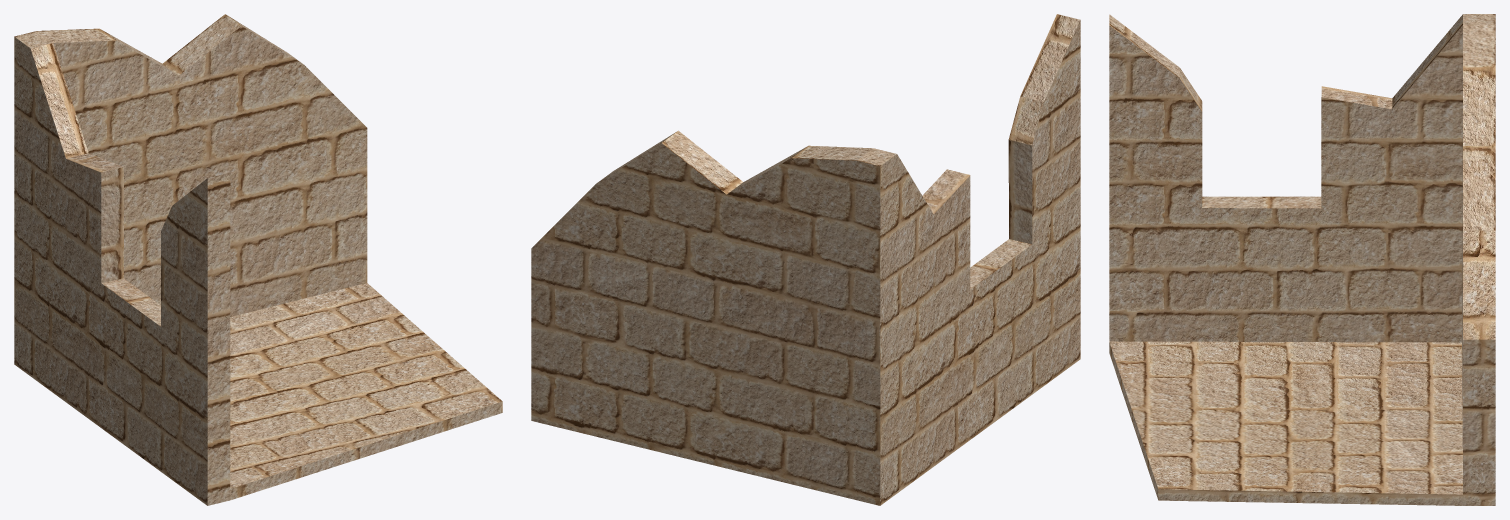
Rendered from ruin1.obj.
3 renders of one model, left to right at view 1: azimuth 30°, elevation 25°; view 2: azimuth 150°, elevation 25°; view 3: azimuth 270°, elevation 25°, orthographic. The views are drawn at different scales.
Visible parts, largest first — view 1: Cube; view 2: Cube; view 3: Cube.
Boxes of the visible parts, x1=… form: Cube: x1=14, y1=14, x2=502, y2=505; Cube: x1=531, y1=14, x2=1080, y2=505; Cube: x1=1109, y1=14, x2=1495, y2=505.
Size of the model in its own units: 6.95 by 6.52 by 6.92.
1 material, 1 textured.
